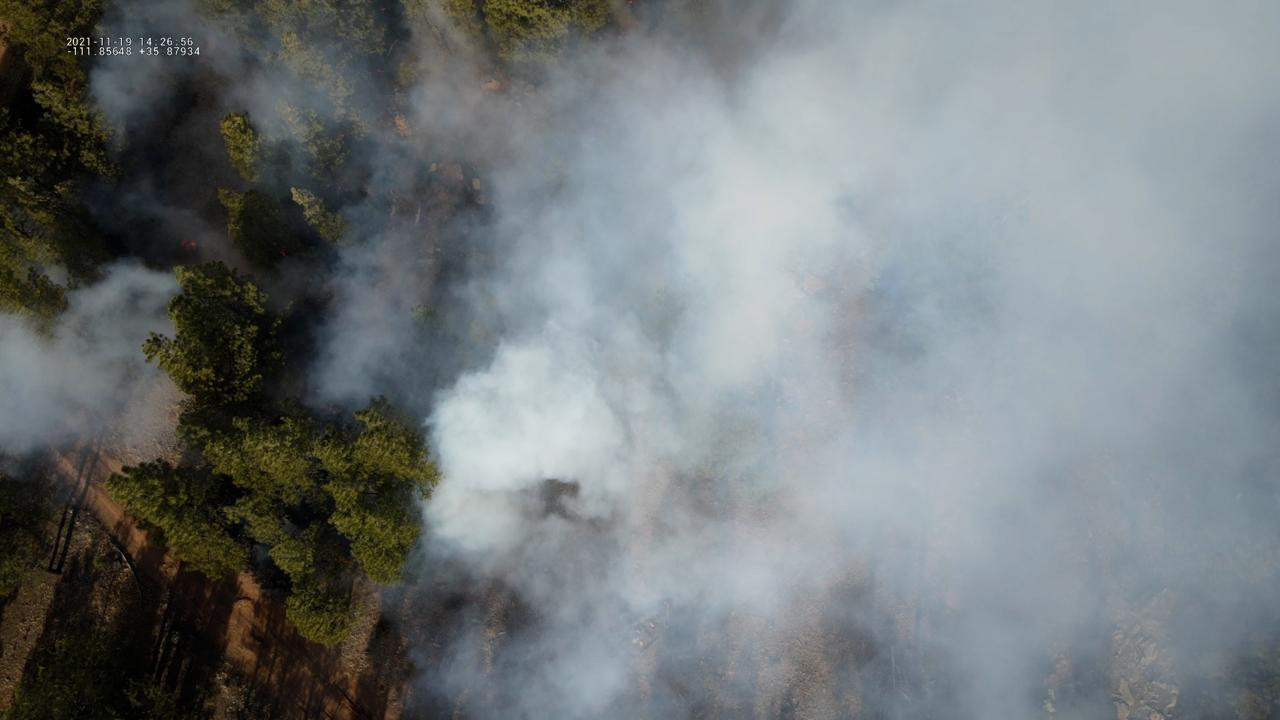fire: (178, 239, 198, 250), (278, 248, 287, 257)
smoke: (0, 0, 1280, 720)
